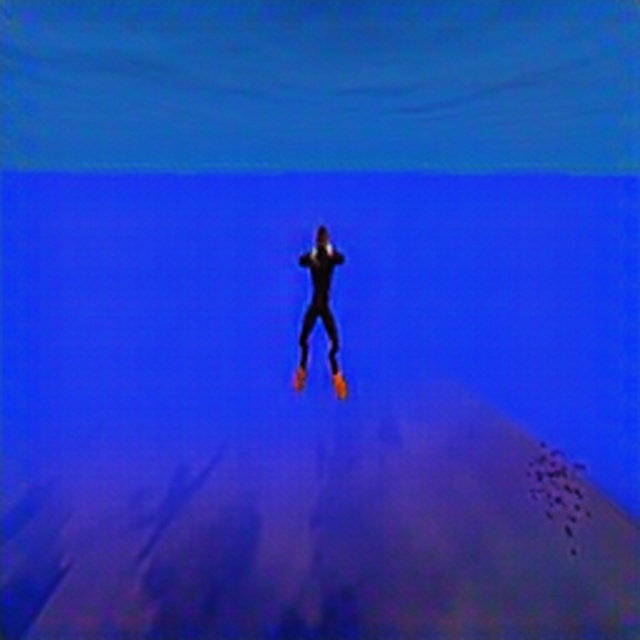diver: (291, 221, 349, 401)
